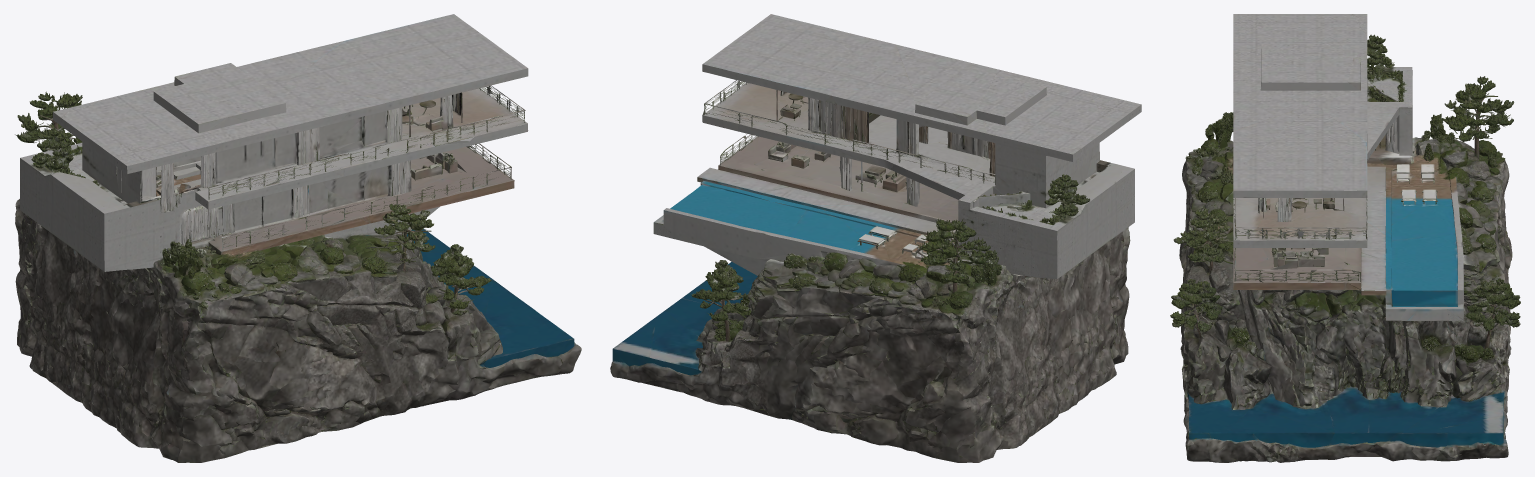
Rendered from house.glb.
The picture shows the model from 3 angles, left to right: view 1: azimuth 30°, elevation 25°; view 2: azimuth 150°, elevation 25°; view 3: azimuth 270°, elevation 25°; orthographic projection. The views are drawn at different scales.
Parts seen in each view (by area): view 1: Mesh_0; view 2: Mesh_0; view 3: Mesh_0.
Part boxes in pixels (x1,y1,x2,y2): Mesh_0: (15,14,581,462); Mesh_0: (610,14,1141,462); Mesh_0: (1170,14,1520,462).
Bounding box in the file's own units: 1.91 × 1.23 × 1.44.
1 material, 1 textured.
